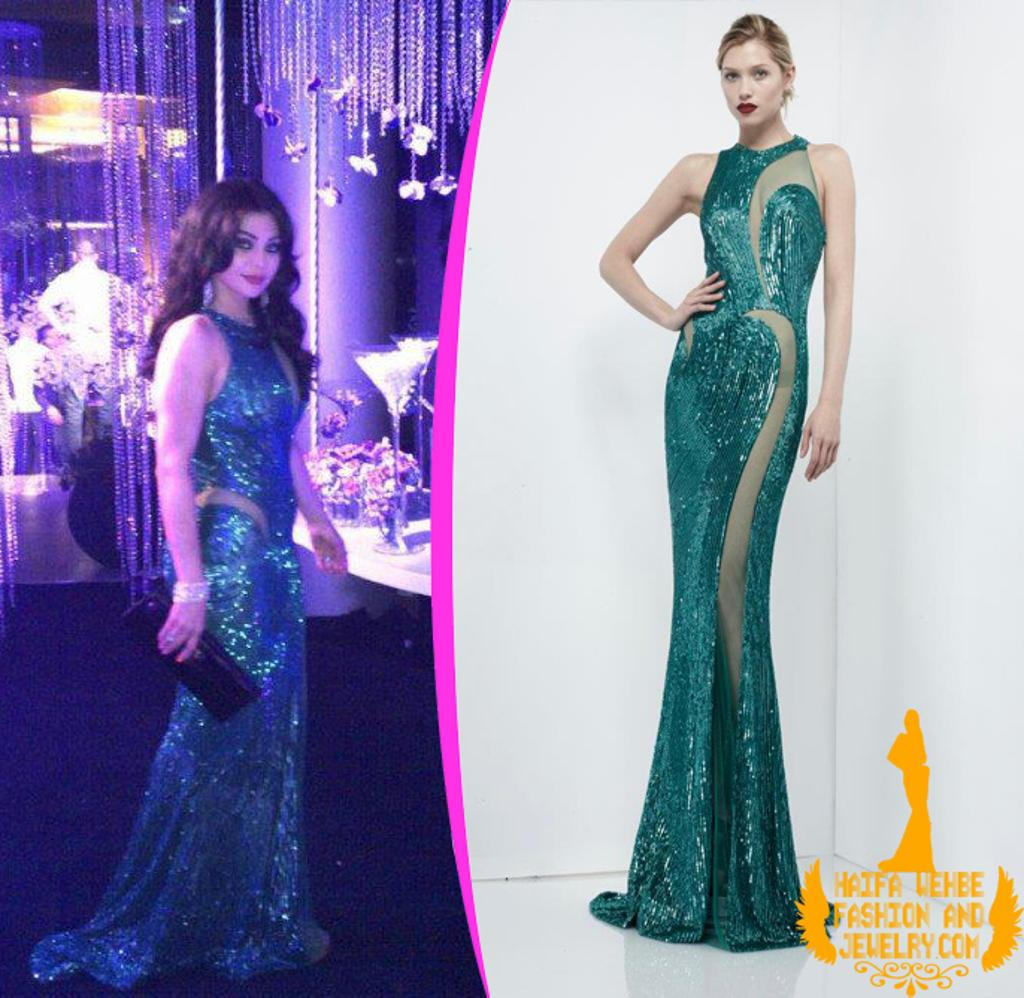face: (212, 219, 280, 297), (721, 54, 782, 125)
